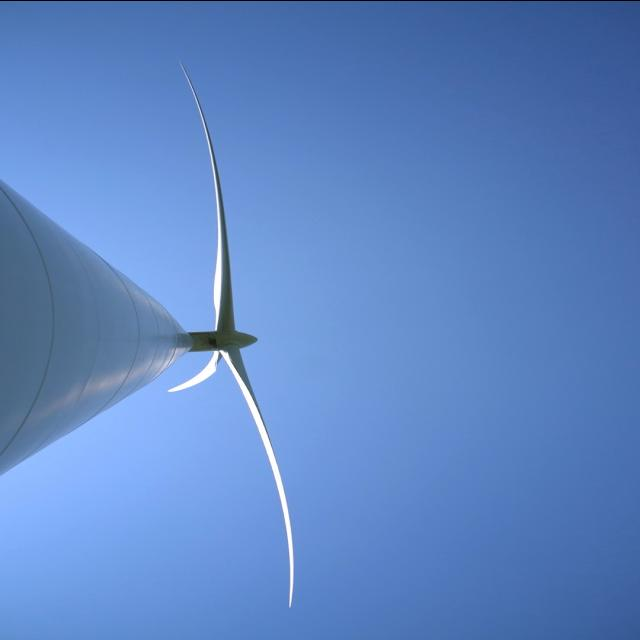blade 1: (152, 367, 227, 485)
blade 2: (236, 357, 326, 609)
blade 3: (163, 72, 257, 317)
